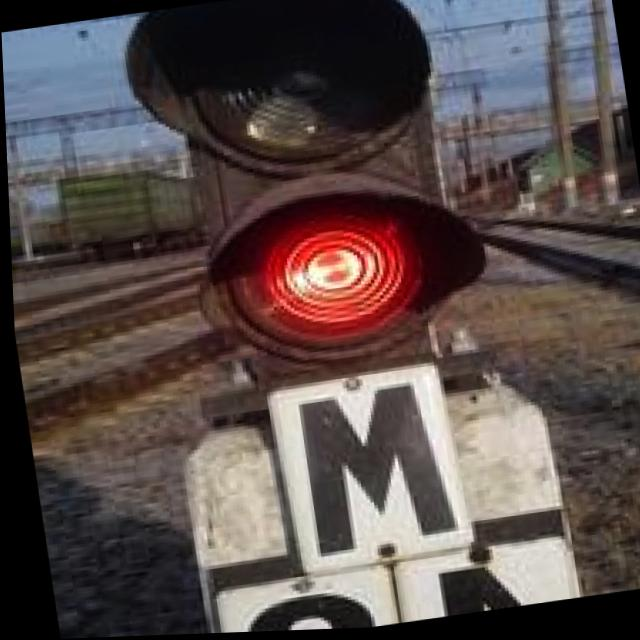red_light: (181, 167, 482, 379)
